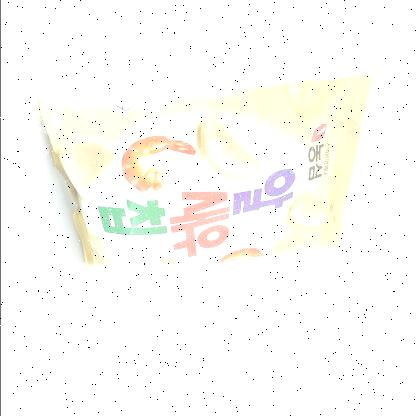Others: (22, 66, 382, 290)
